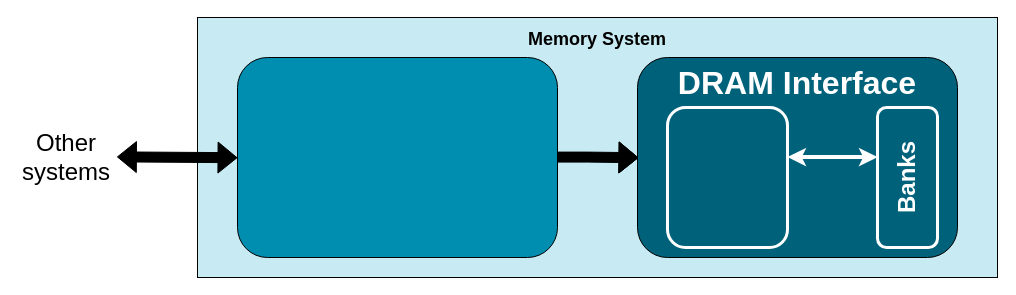
Some shapes in this 1016 by 295 pixel diagram are drawn without their labels. Each missing label, with the centre of its shape:
Config+ State Latencies Power Mode Refresh Status: point 727,177
Memory Controller: point 397,157
